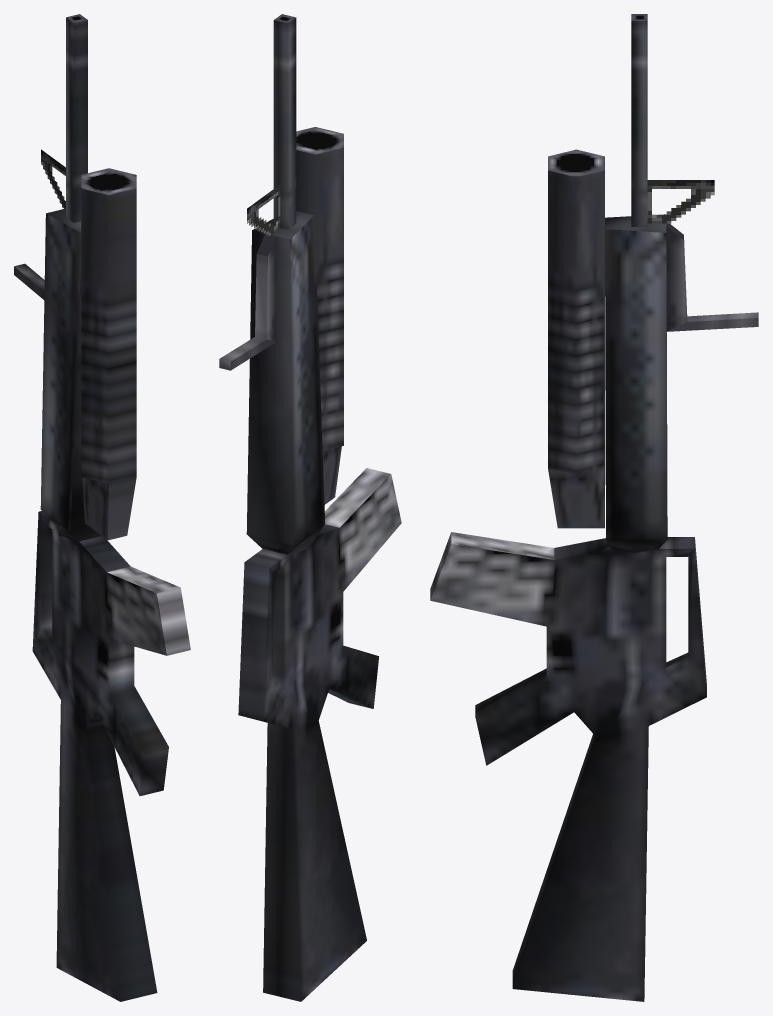
The model's file is Rifle02_M16wM203.glb.
3 views of the same model, side by side, from view 1: azimuth 30°, elevation 25°; view 2: azimuth 150°, elevation 25°; view 3: azimuth 270°, elevation 25° (orthographic). The views are drawn at different scales.
Parts seen in each view (by area): view 1: RIFLE02_M16WM203; view 2: RIFLE02_M16WM203; view 3: RIFLE02_M16WM203.
Boxes of the visible parts, x1,y1,x2,y2 form: RIFLE02_M16WM203: [14, 14, 190, 1001]; RIFLE02_M16WM203: [219, 14, 401, 1001]; RIFLE02_M16WM203: [430, 14, 758, 1001].
Size of the model in its own units: 0.06 by 0.98 by 0.299.
Materials: 2 (2 with a texture image).
